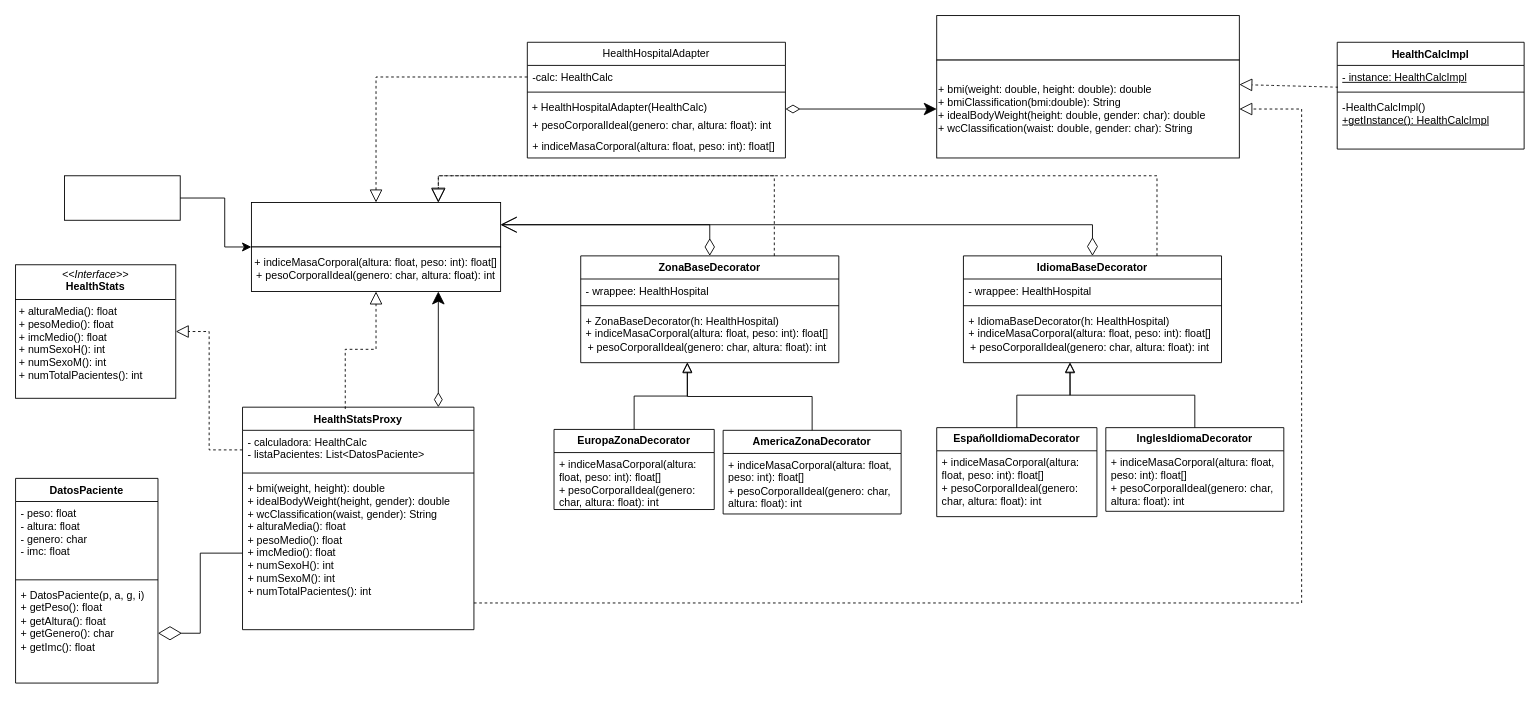
This 1540x701 diagram has some shape labels left out. Here are the shapes that lost their labels. From the top down, the centre of each, then its label:
At point 1087,37: "«interface» HealthCalc".
At point 122,197: "main".
At point 376,224: "«interface» HealthHospital".
